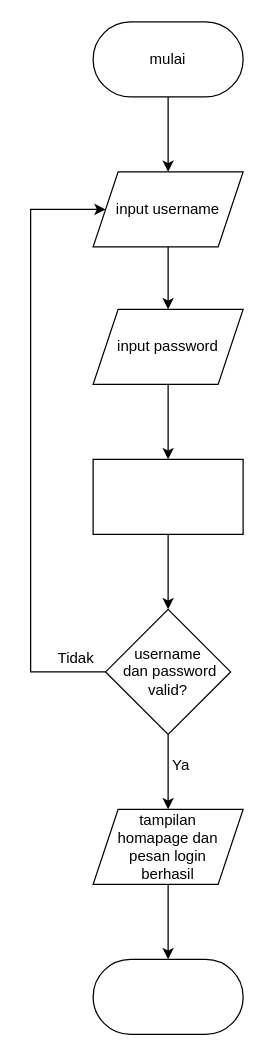
Image size: 265x1056. Some labels were removed from this diagram. The shapes that lost their labels are listed below. From the top down, each one's centre as x and y in pixels, then its label:
At (167,496): "validasi username dan password".
At (167,996): "selesai".
